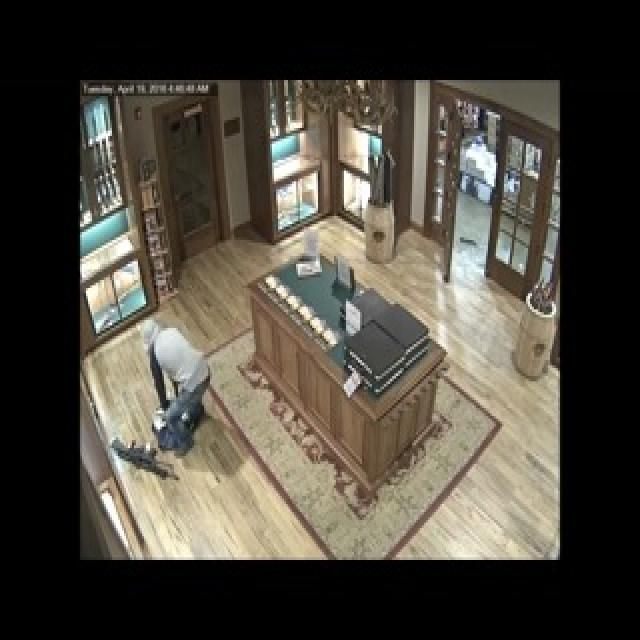thief: (131, 324, 215, 464)
